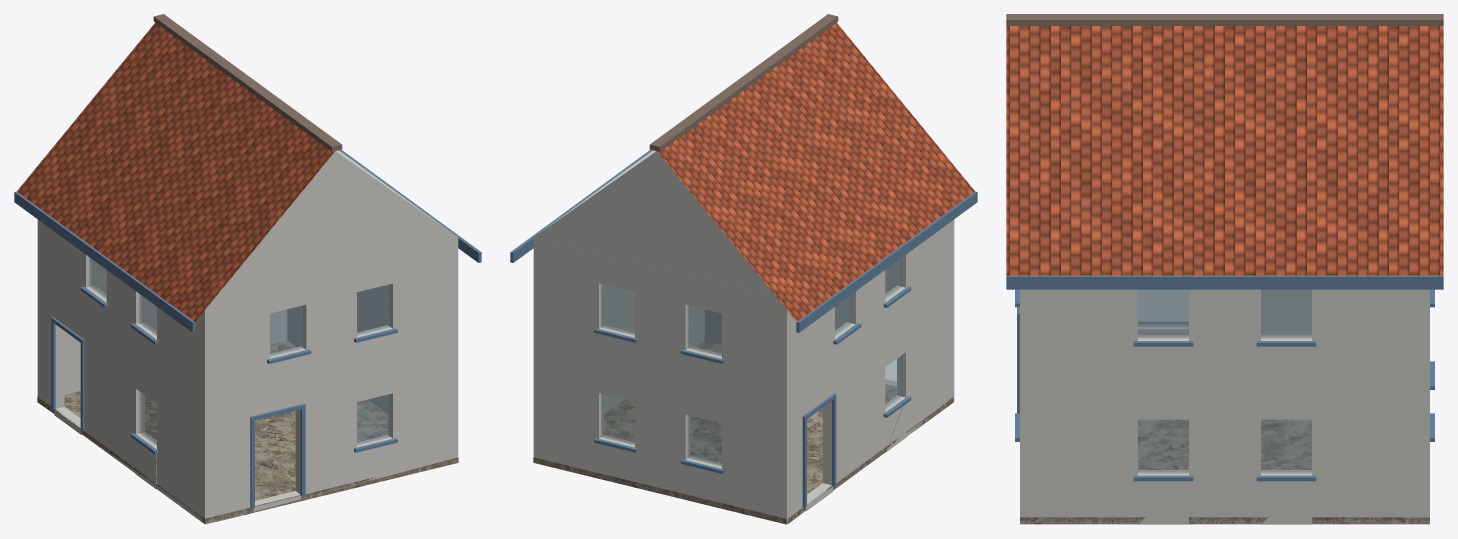
File: cottage-white.glass-v1.lod1.glb
3 views of the same model, side by side, from view 1: azimuth 30°, elevation 25°; view 2: azimuth 150°, elevation 25°; view 3: azimuth 270°, elevation 25° (orthographic). The views are drawn at different scales.
Parts seen in each view (by area): view 1: cottage-white; view 2: cottage-white; view 3: cottage-white.
Part boxes in pixels (box(x1,y1,x2,y2)): cottage-white: box(14, 14, 481, 524); cottage-white: box(510, 14, 977, 524); cottage-white: box(1006, 14, 1443, 524).
Size of the model in its own units: 7.98 by 9.31 by 8.54.
4 materials, 2 textured.
